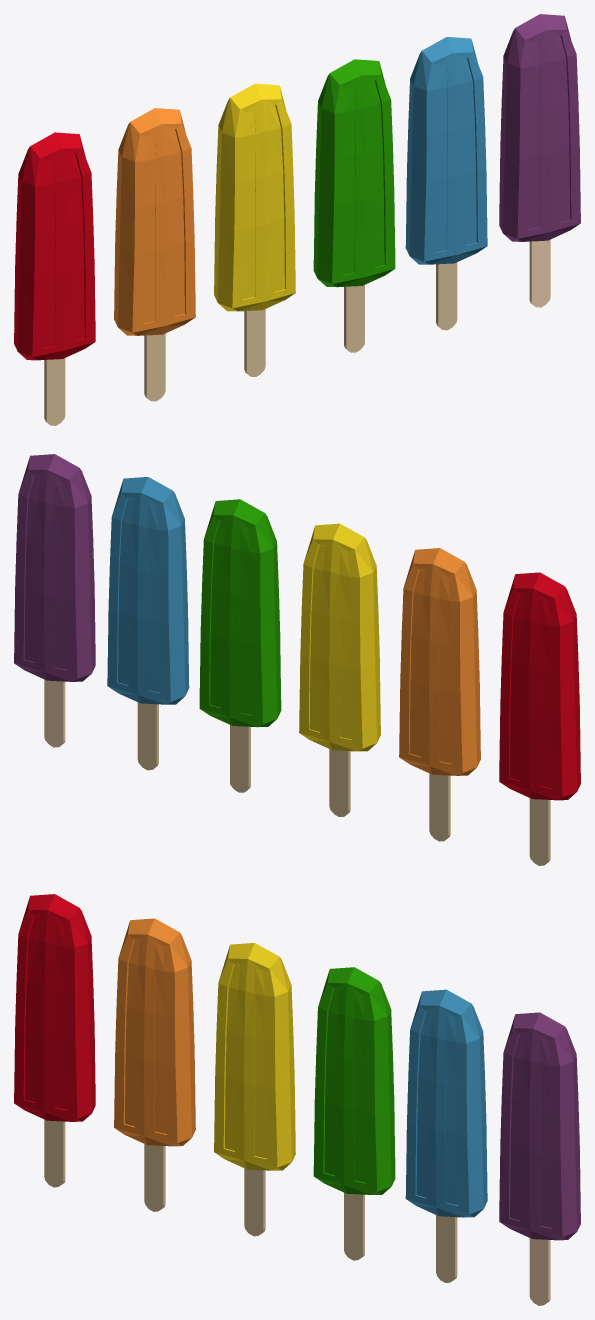
3 views of the same model, one above another, from view 1: azimuth 30°, elevation 25°; view 2: azimuth 150°, elevation 25°; view 3: azimuth 330°, elevation 25° (orthographic).
Parts seen in each view (by area): view 1: Node; view 2: Node; view 3: Node.
Part boxes in pixels (x1,y1,x2,y2): Node: [14, 14, 580, 425]; Node: [14, 454, 580, 865]; Node: [14, 894, 580, 1305].
Bounding box in the file's own units: 6.61 × 3.31 × 0.4496.
